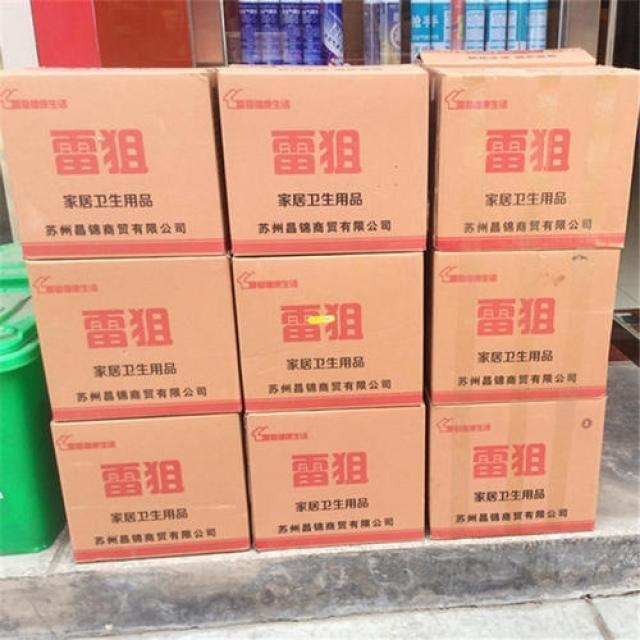box: (0, 67, 230, 259), (220, 64, 429, 253), (429, 65, 639, 251), (26, 255, 243, 421), (233, 252, 425, 413), (50, 413, 251, 564), (426, 252, 620, 404), (244, 403, 426, 552), (429, 396, 608, 540), (31, 0, 196, 65), (415, 47, 596, 67)
